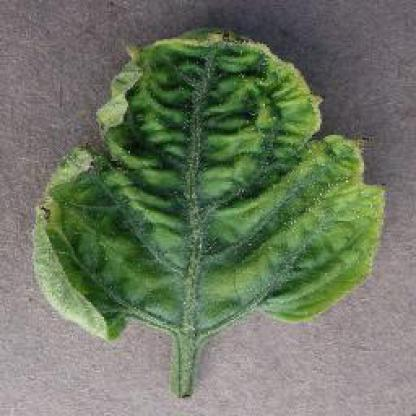bad leaf: (32, 23, 213, 362), (214, 21, 386, 357), (33, 25, 368, 155), (22, 153, 382, 272), (19, 274, 348, 340)
